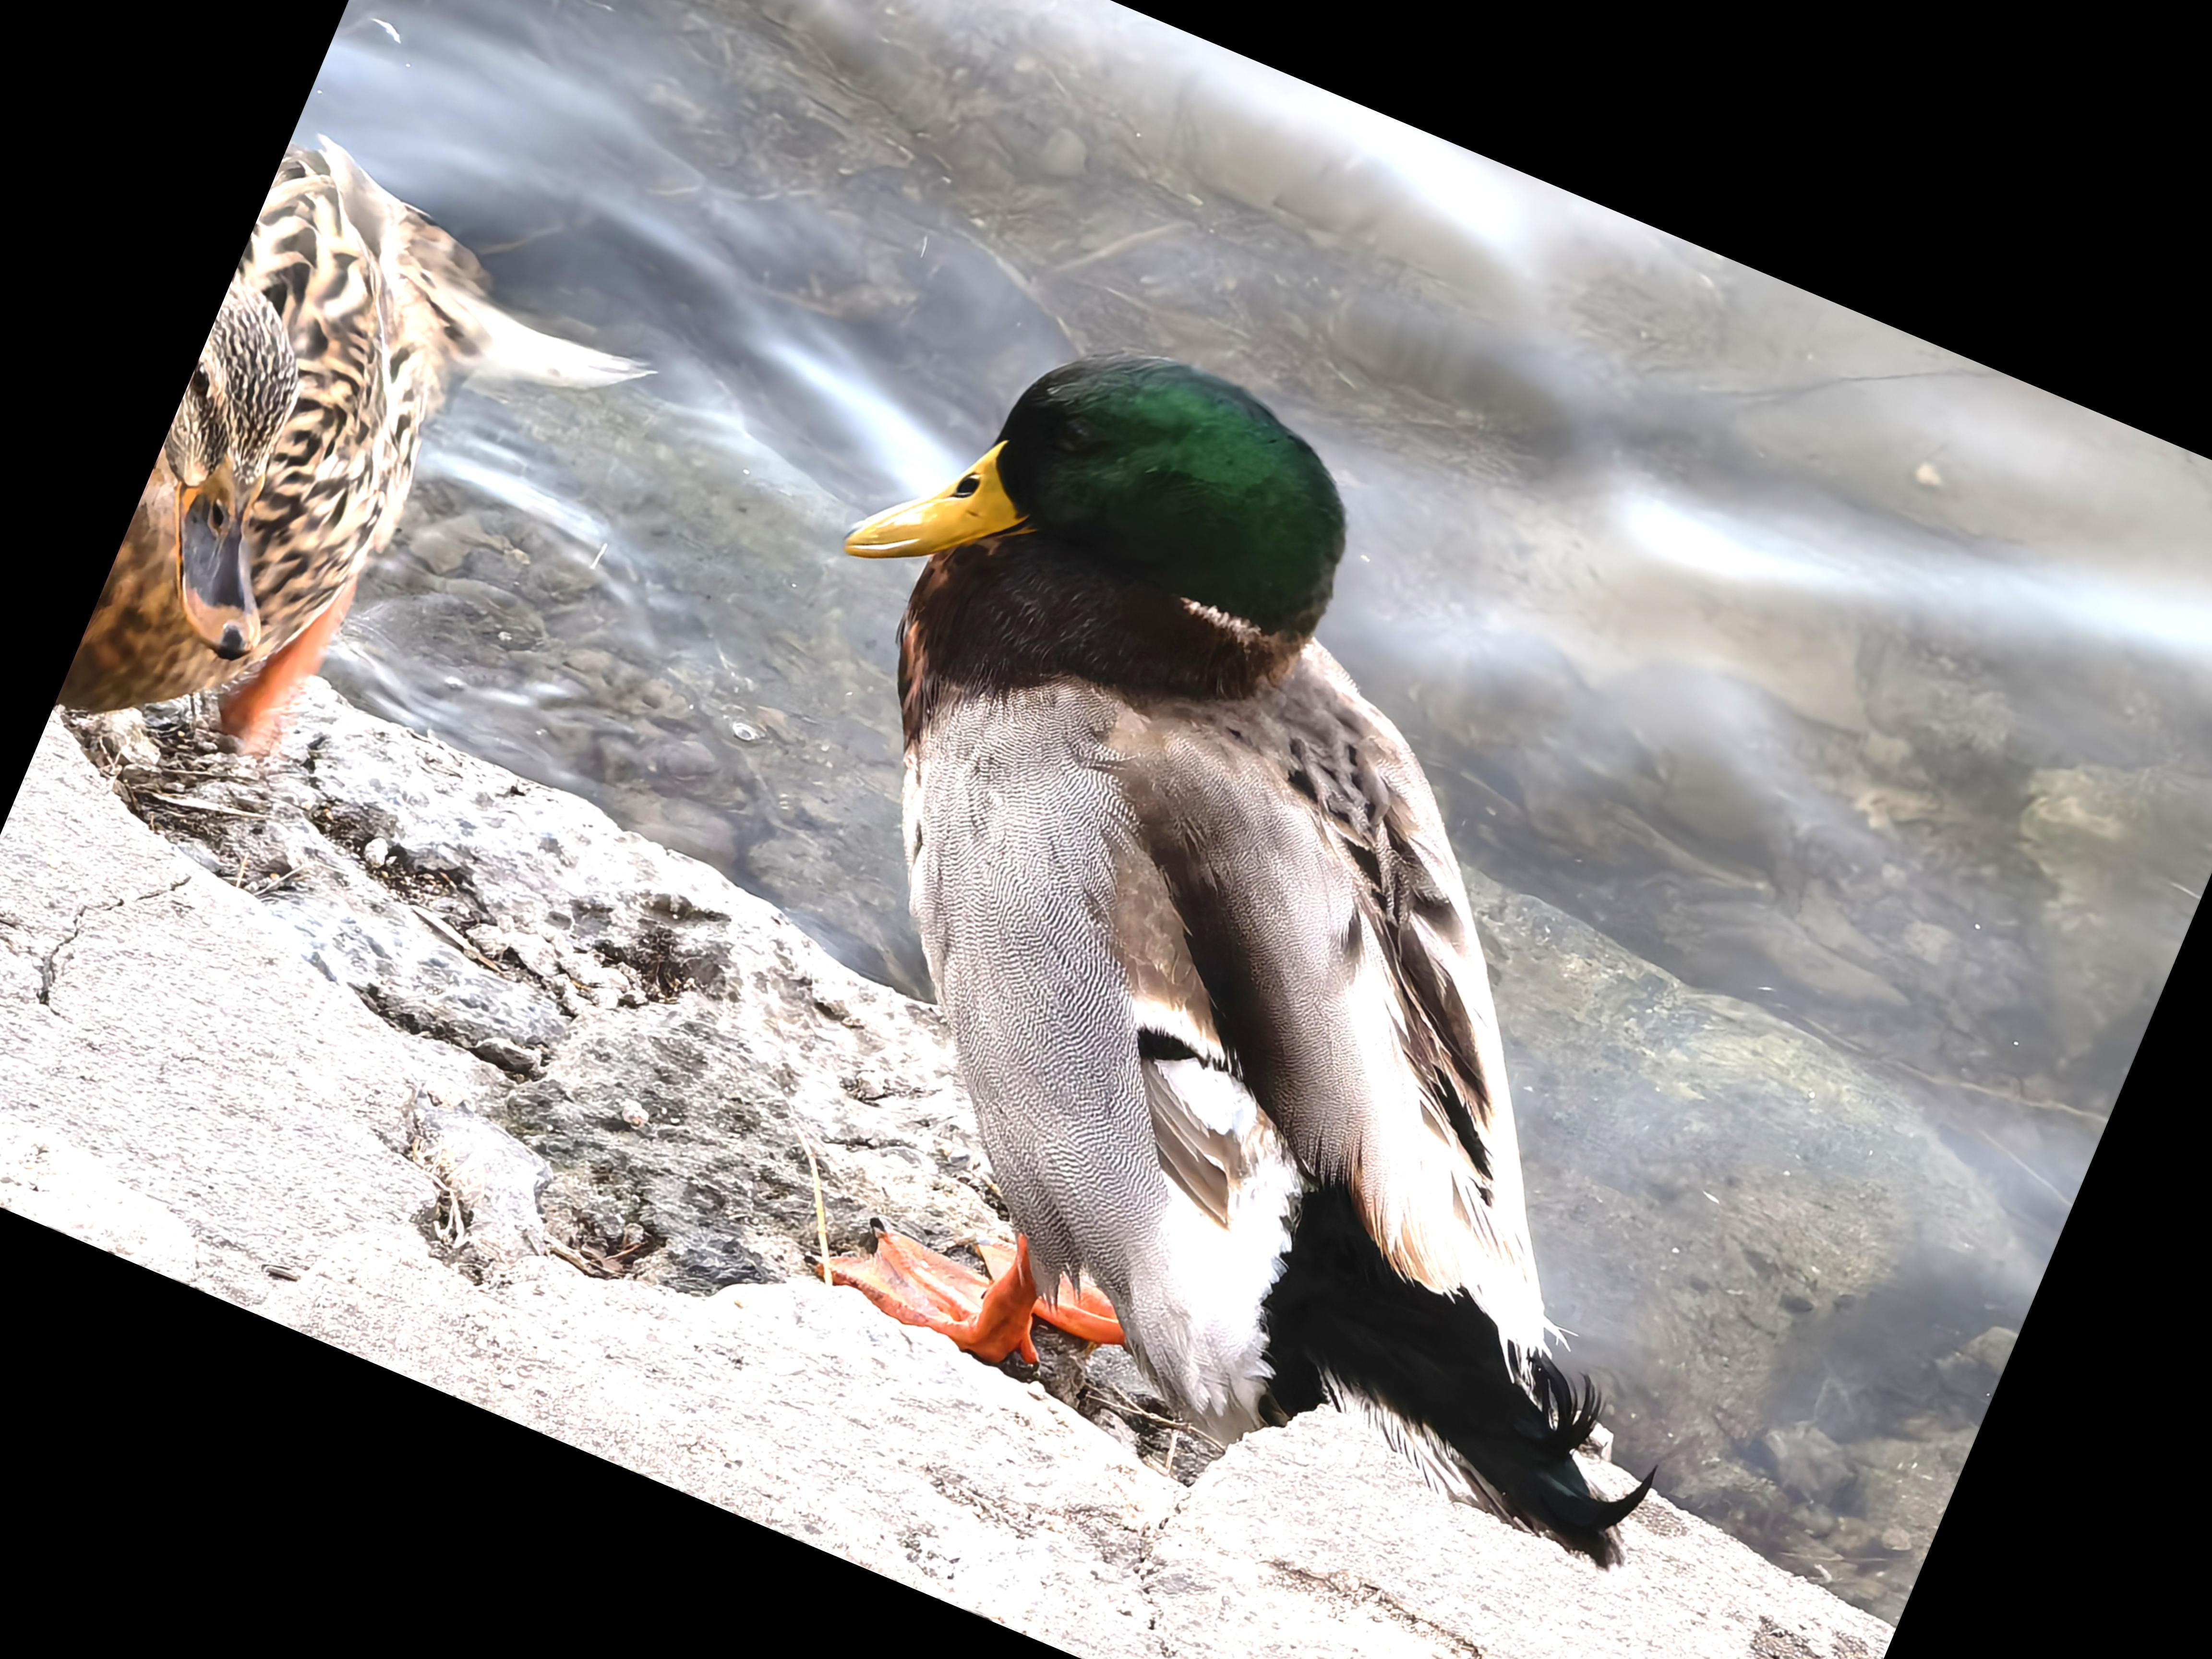duck: (559, 200, 2017, 1601), (54, 71, 698, 863)
